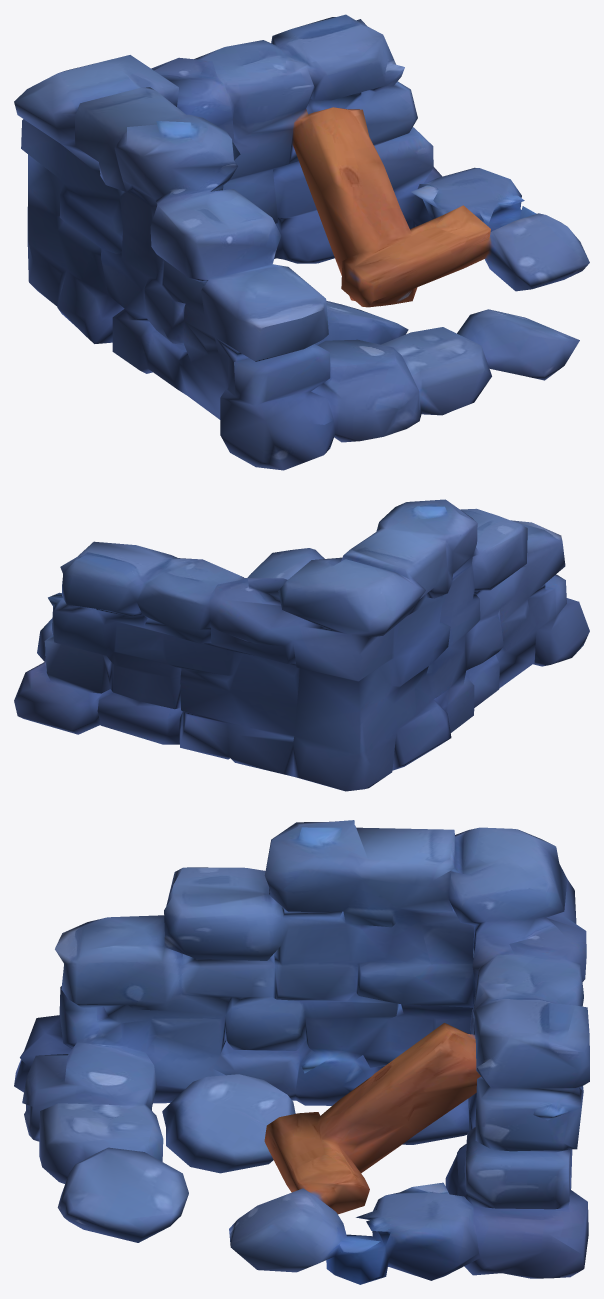
Rendered from camp_rubble-3VmeiDwi.glb.
3 renders of one model, top to bottom at view 1: azimuth 30°, elevation 25°; view 2: azimuth 150°, elevation 25°; view 3: azimuth 270°, elevation 25°, orthographic. The views are drawn at different scales.
Parts seen in each view (by area): view 1: tripo_node_e33debc5-72f7-454a-be12-50abd2c88dc6; view 2: tripo_node_e33debc5-72f7-454a-be12-50abd2c88dc6; view 3: tripo_node_e33debc5-72f7-454a-be12-50abd2c88dc6.
Part boxes in pixels (left/top/right/bottom): tripo_node_e33debc5-72f7-454a-be12-50abd2c88dc6: left=14, top=14, right=589, bottom=470; tripo_node_e33debc5-72f7-454a-be12-50abd2c88dc6: left=14, top=499, right=589, bottom=791; tripo_node_e33debc5-72f7-454a-be12-50abd2c88dc6: left=14, top=820, right=589, bottom=1284.
Size of the model in its own units: 0.9753 by 0.5 by 1.
1 material, 1 textured.
